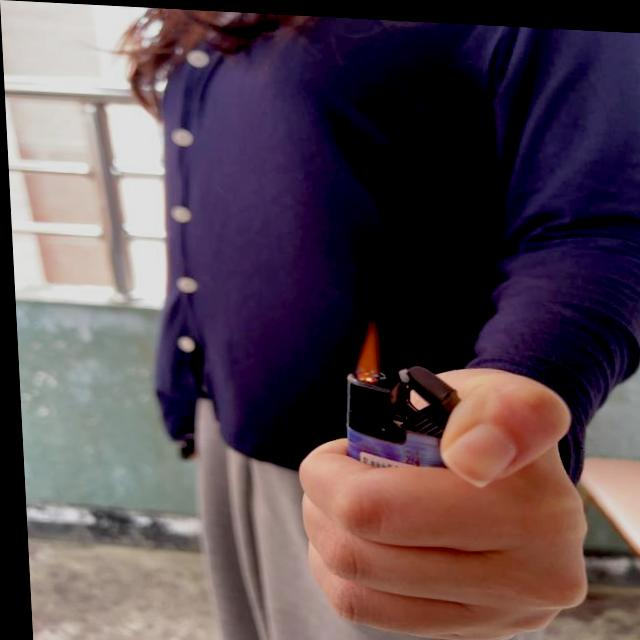helmet: (348, 311, 380, 381)
